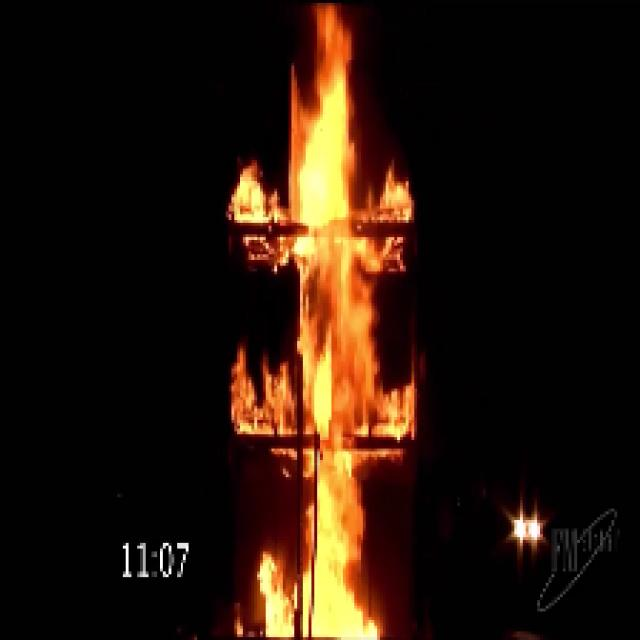fire: (254, 3, 398, 640)
